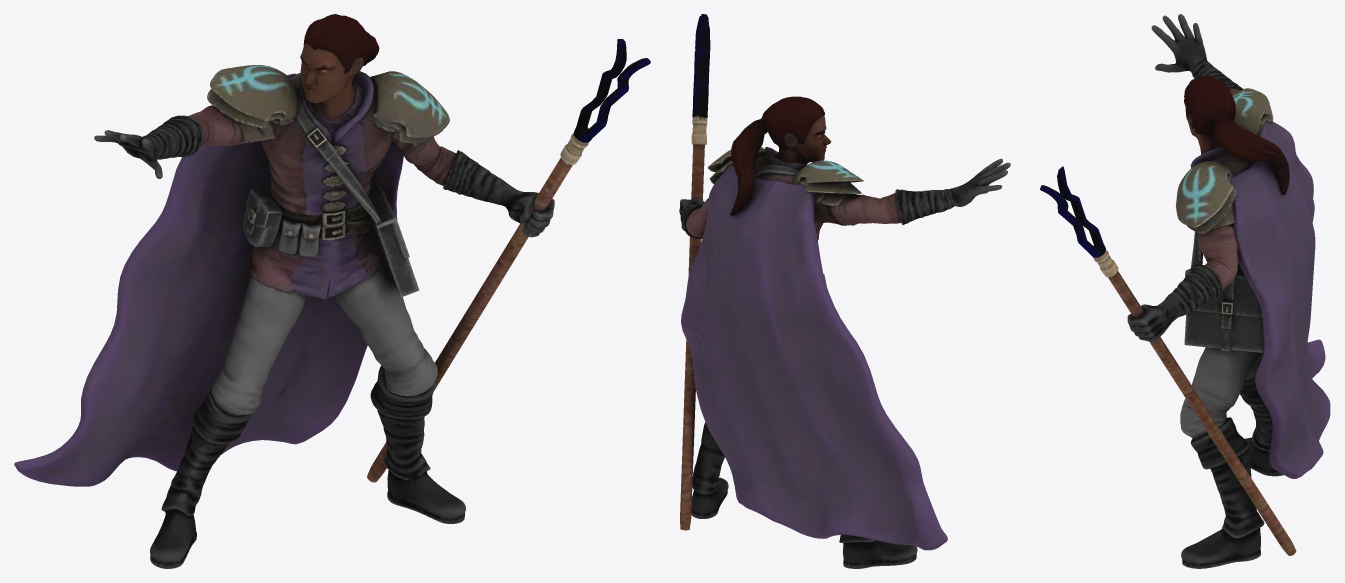
File: MZ4250 - Human Male Abjuration Wizard_3.glb
The picture shows the model from 3 angles, left to right: view 1: azimuth 30°, elevation 25°; view 2: azimuth 150°, elevation 25°; view 3: azimuth 270°, elevation 25°; orthographic projection. The views are drawn at different scales.
Parts seen in each view (by area): view 1: Buckle 2.001; view 2: Buckle 2.001; view 3: Buckle 2.001.
Part boxes in pixels (left/top/right/bottom): Buckle 2.001: left=14, top=14, right=650, bottom=568; Buckle 2.001: left=679, top=14, right=1010, bottom=568; Buckle 2.001: left=1040, top=14, right=1330, bottom=568.
Size of the model in its own units: 82.44 by 86.99 by 52.37.
1 material, 1 textured.
